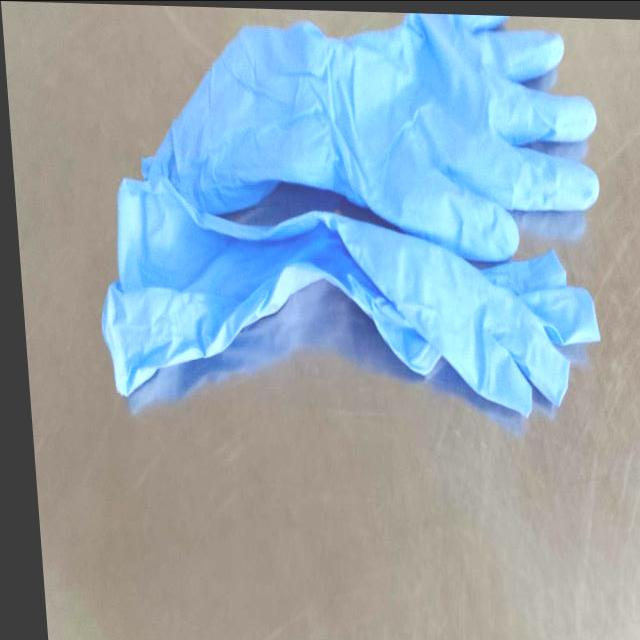General: (99, 12, 603, 426)
